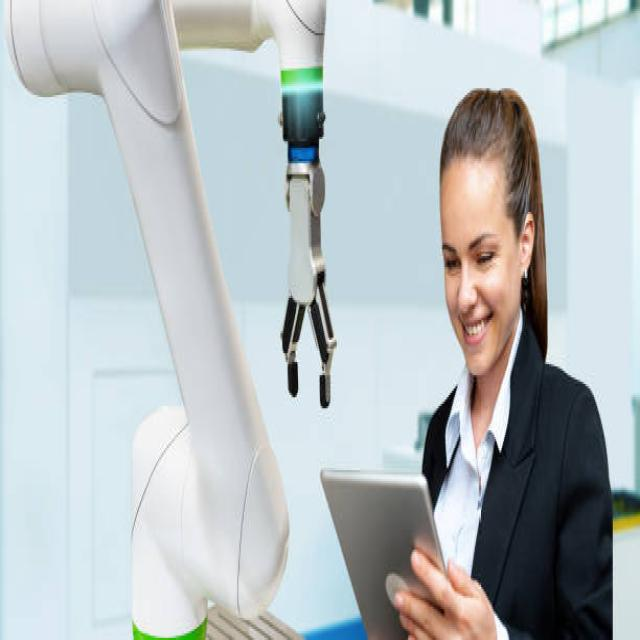Robotic-arm: (3, 0, 338, 640)
